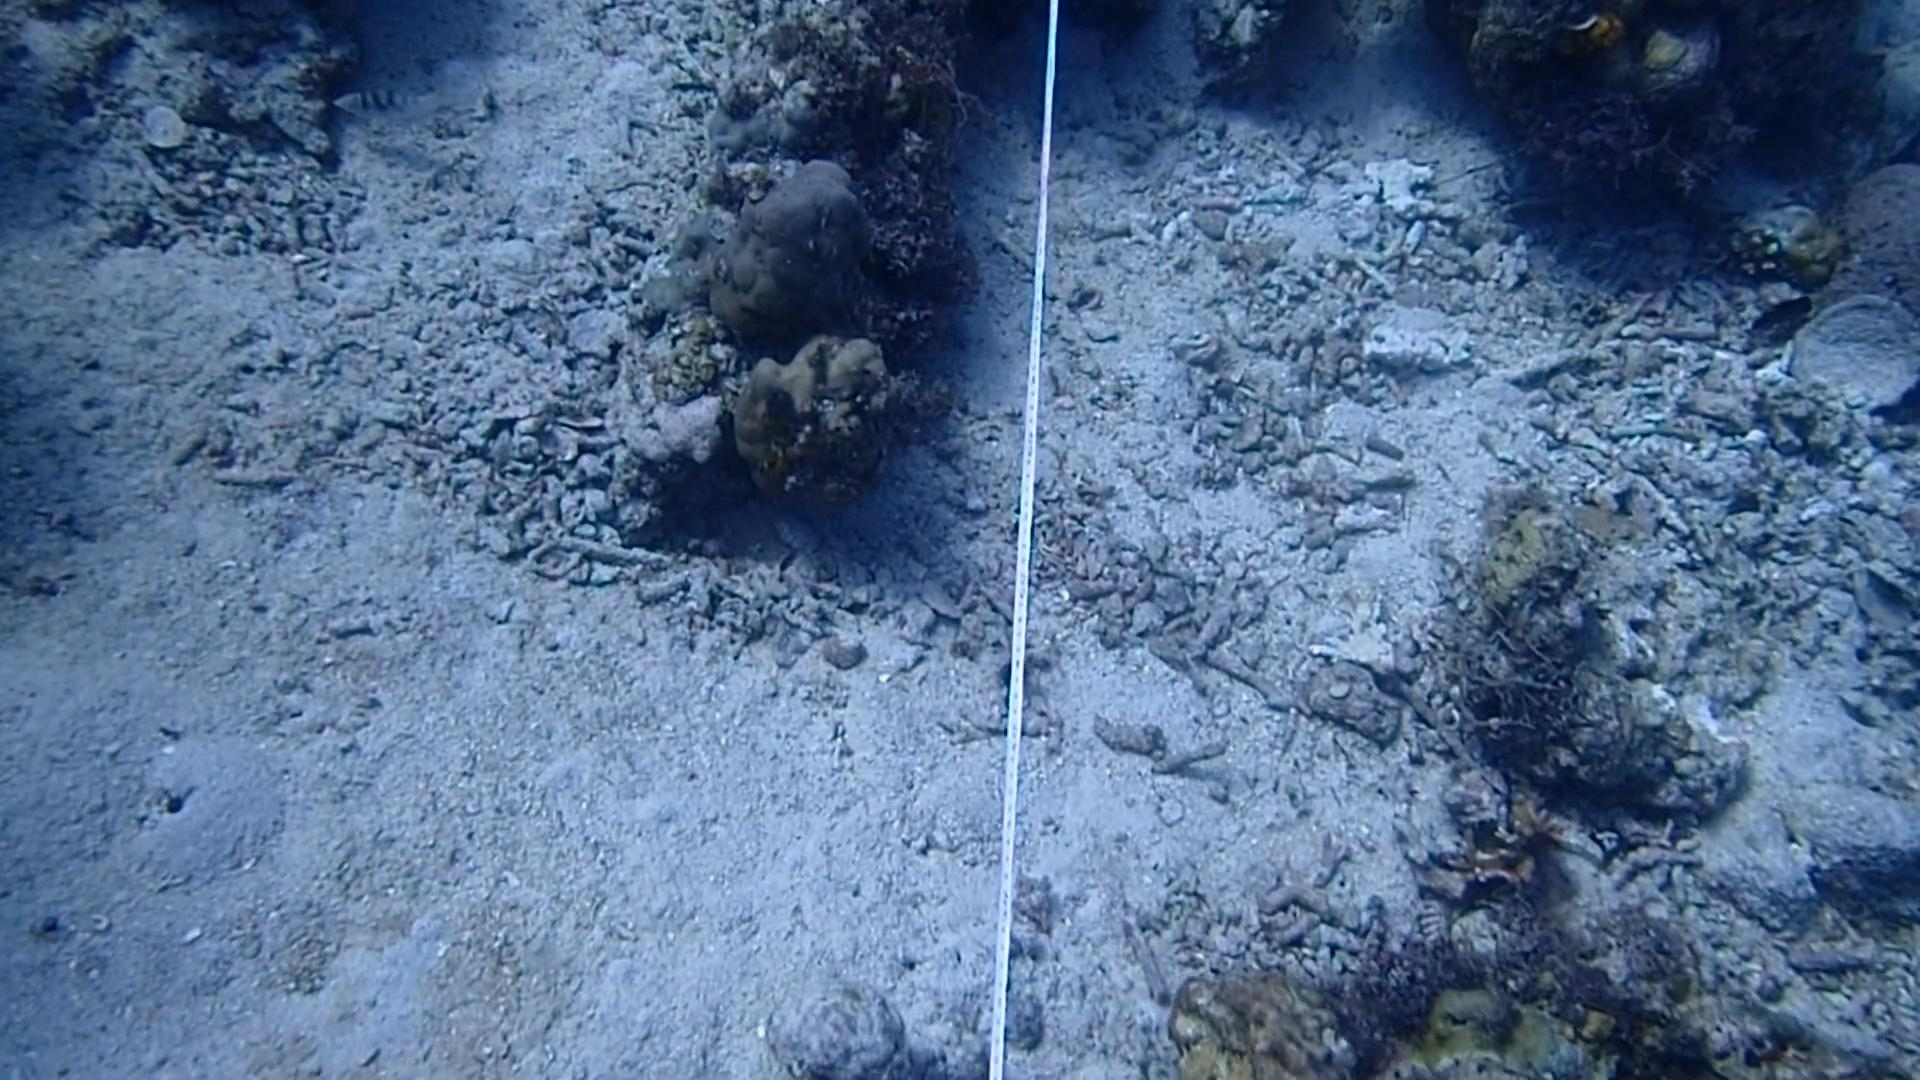Dark Fish: (1735, 280, 1829, 344)
